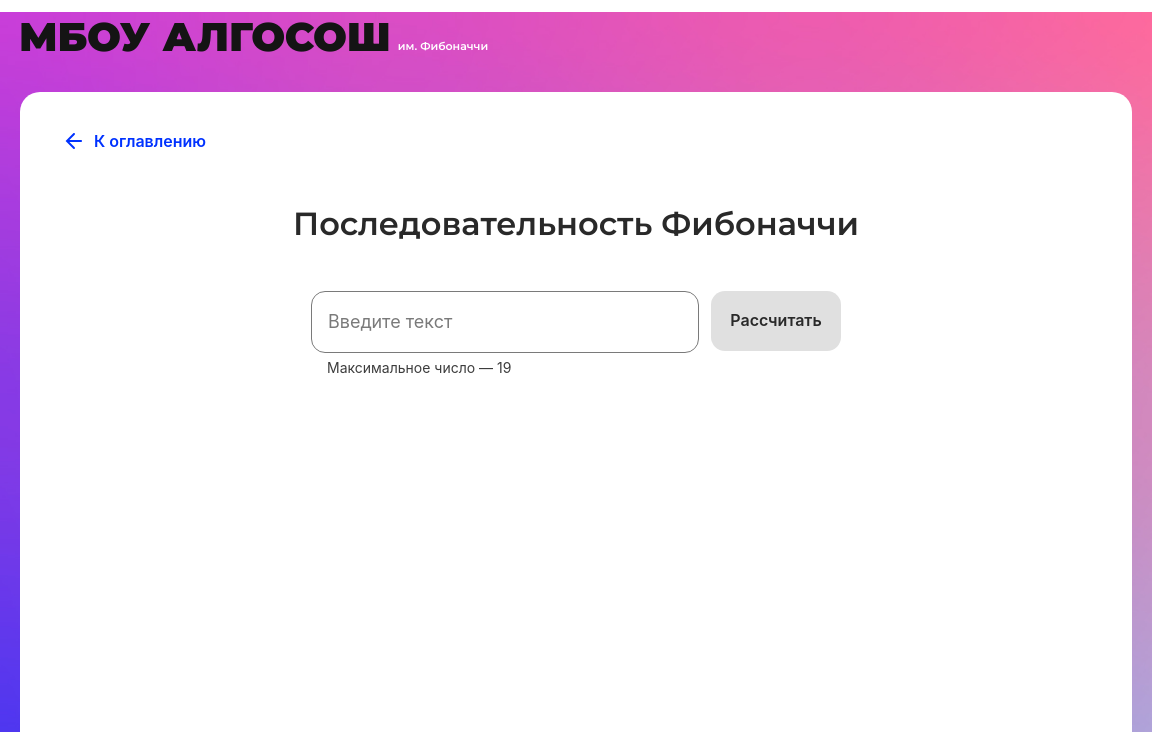
it: fibonaci works right › fibonacci nums counts correctly
The width and height of the screenshot is (1152, 732).
In the number field with test id "mainInput": [505, 322] box [311, 291, 699, 353], type "5"
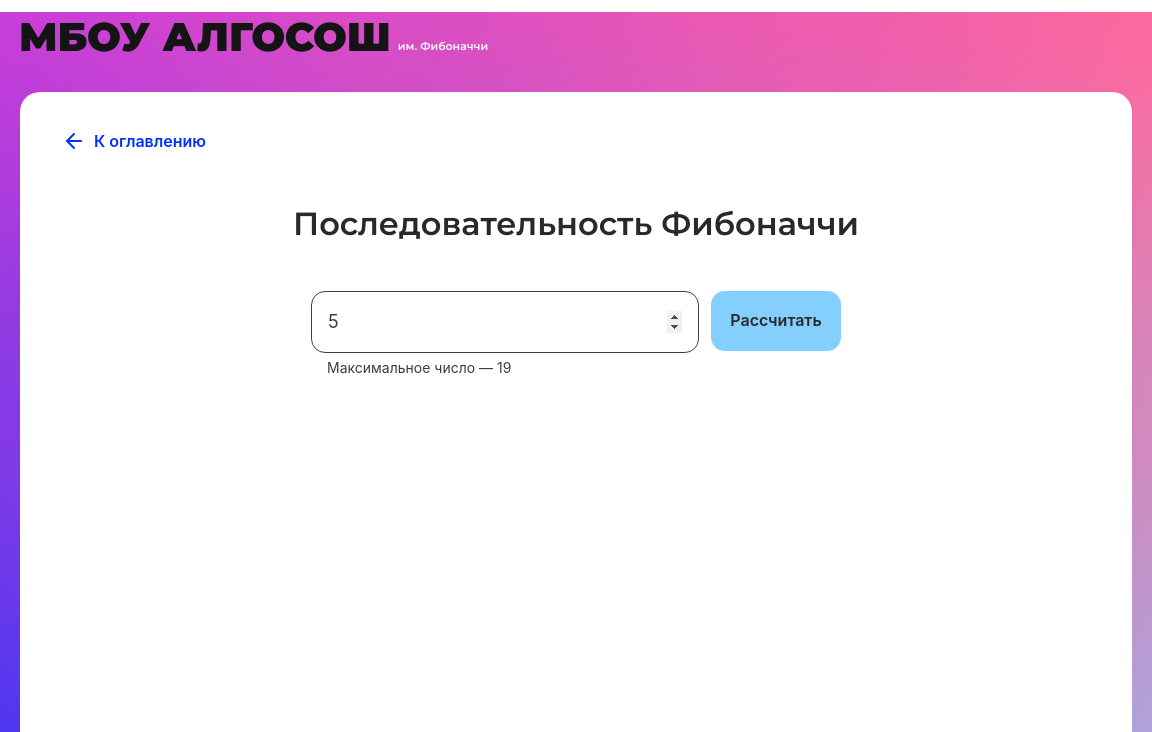
Click the button with test id "actionButton": [776, 321] box [711, 291, 841, 351]
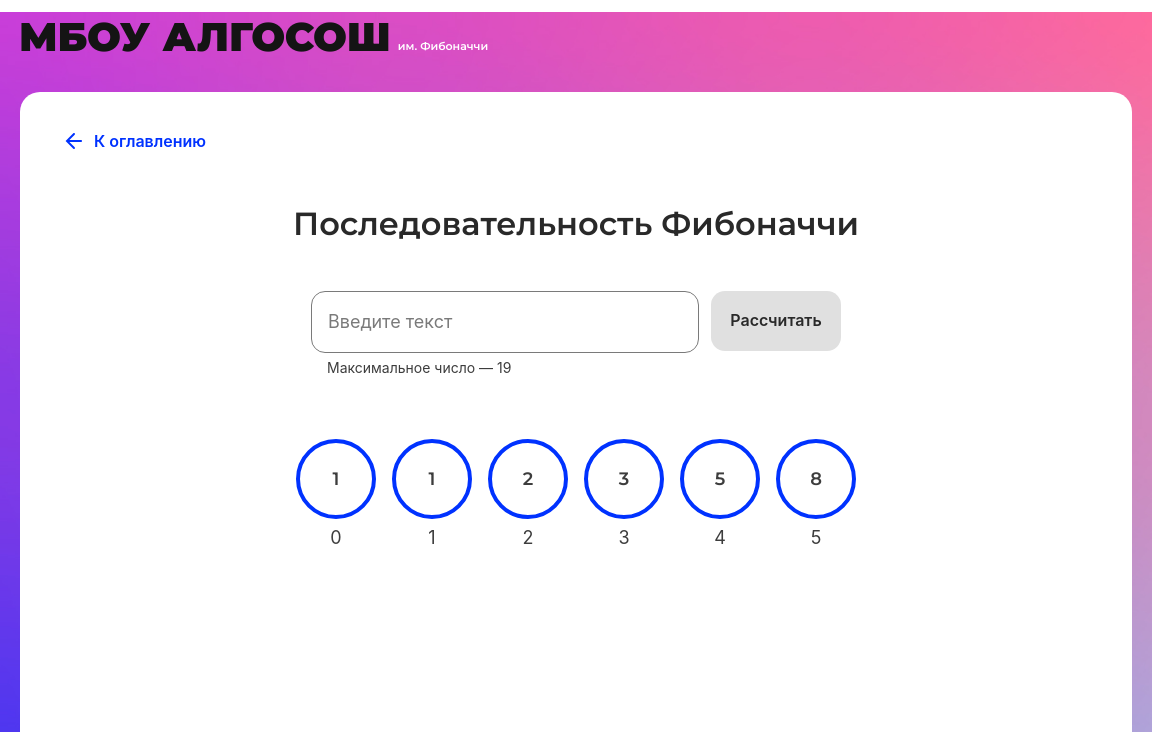
Now the number of elements with test id "circle" is 6, box [296, 439, 376, 519]; [392, 439, 472, 519]; [488, 439, 568, 519]; [584, 439, 664, 519]; [680, 439, 760, 519]; [776, 439, 856, 519]
Now the text with test id "circleTail" reads "0", box [330, 527, 341, 548]
Now the text with test id "circleInsides" reads "1", box [333, 468, 340, 490]
